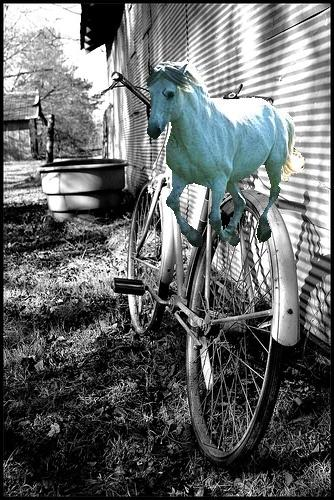tampered: (147, 62, 305, 247)
